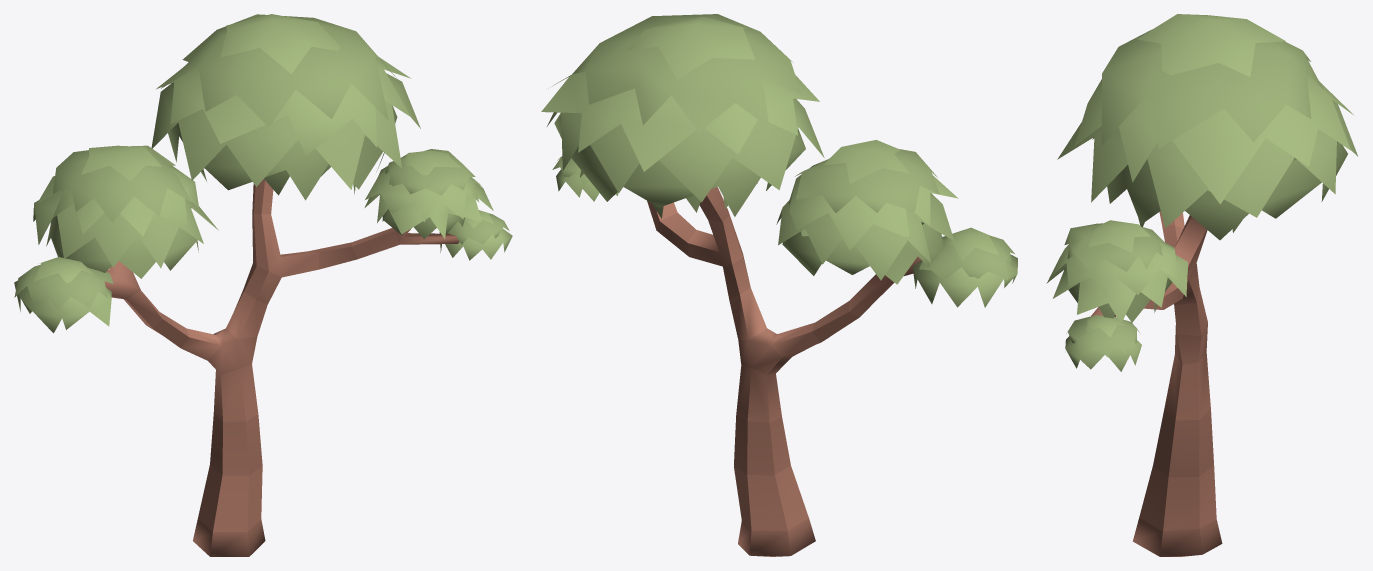
The model's file is a big tree.fbx.
3 renders of one model, left to right at view 1: azimuth 30°, elevation 25°; view 2: azimuth 150°, elevation 25°; view 3: azimuth 270°, elevation 25°, orthographic. The views are drawn at different scales.
Visible parts, largest first — view 1: treee for export; view 2: treee for export; view 3: treee for export.
Part boxes in pixels (<box>): treee for export: <box>14,14,512,556</box>; treee for export: <box>541,14,1017,556</box>; treee for export: <box>1046,14,1357,556</box>.
Size of the model in its own units: 960 by 1010 by 501.
